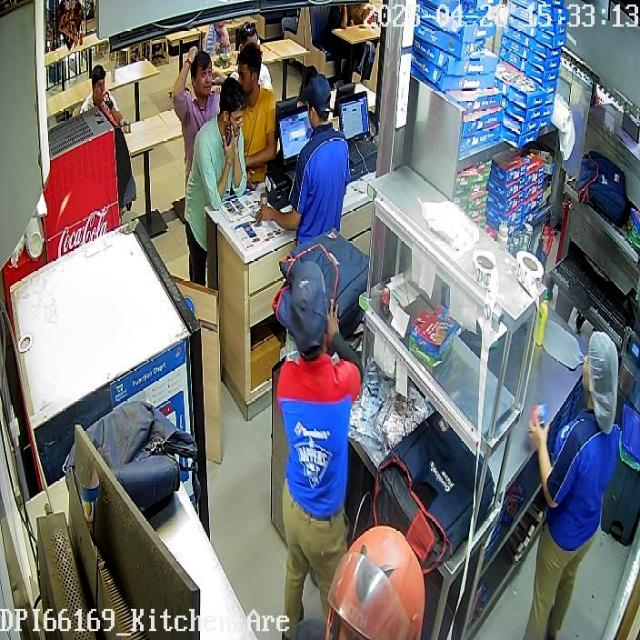helmet: (325, 525, 425, 639)
no_helmet: (583, 330, 619, 435), (288, 262, 326, 357), (219, 78, 246, 139), (238, 42, 262, 105), (190, 51, 213, 98)
